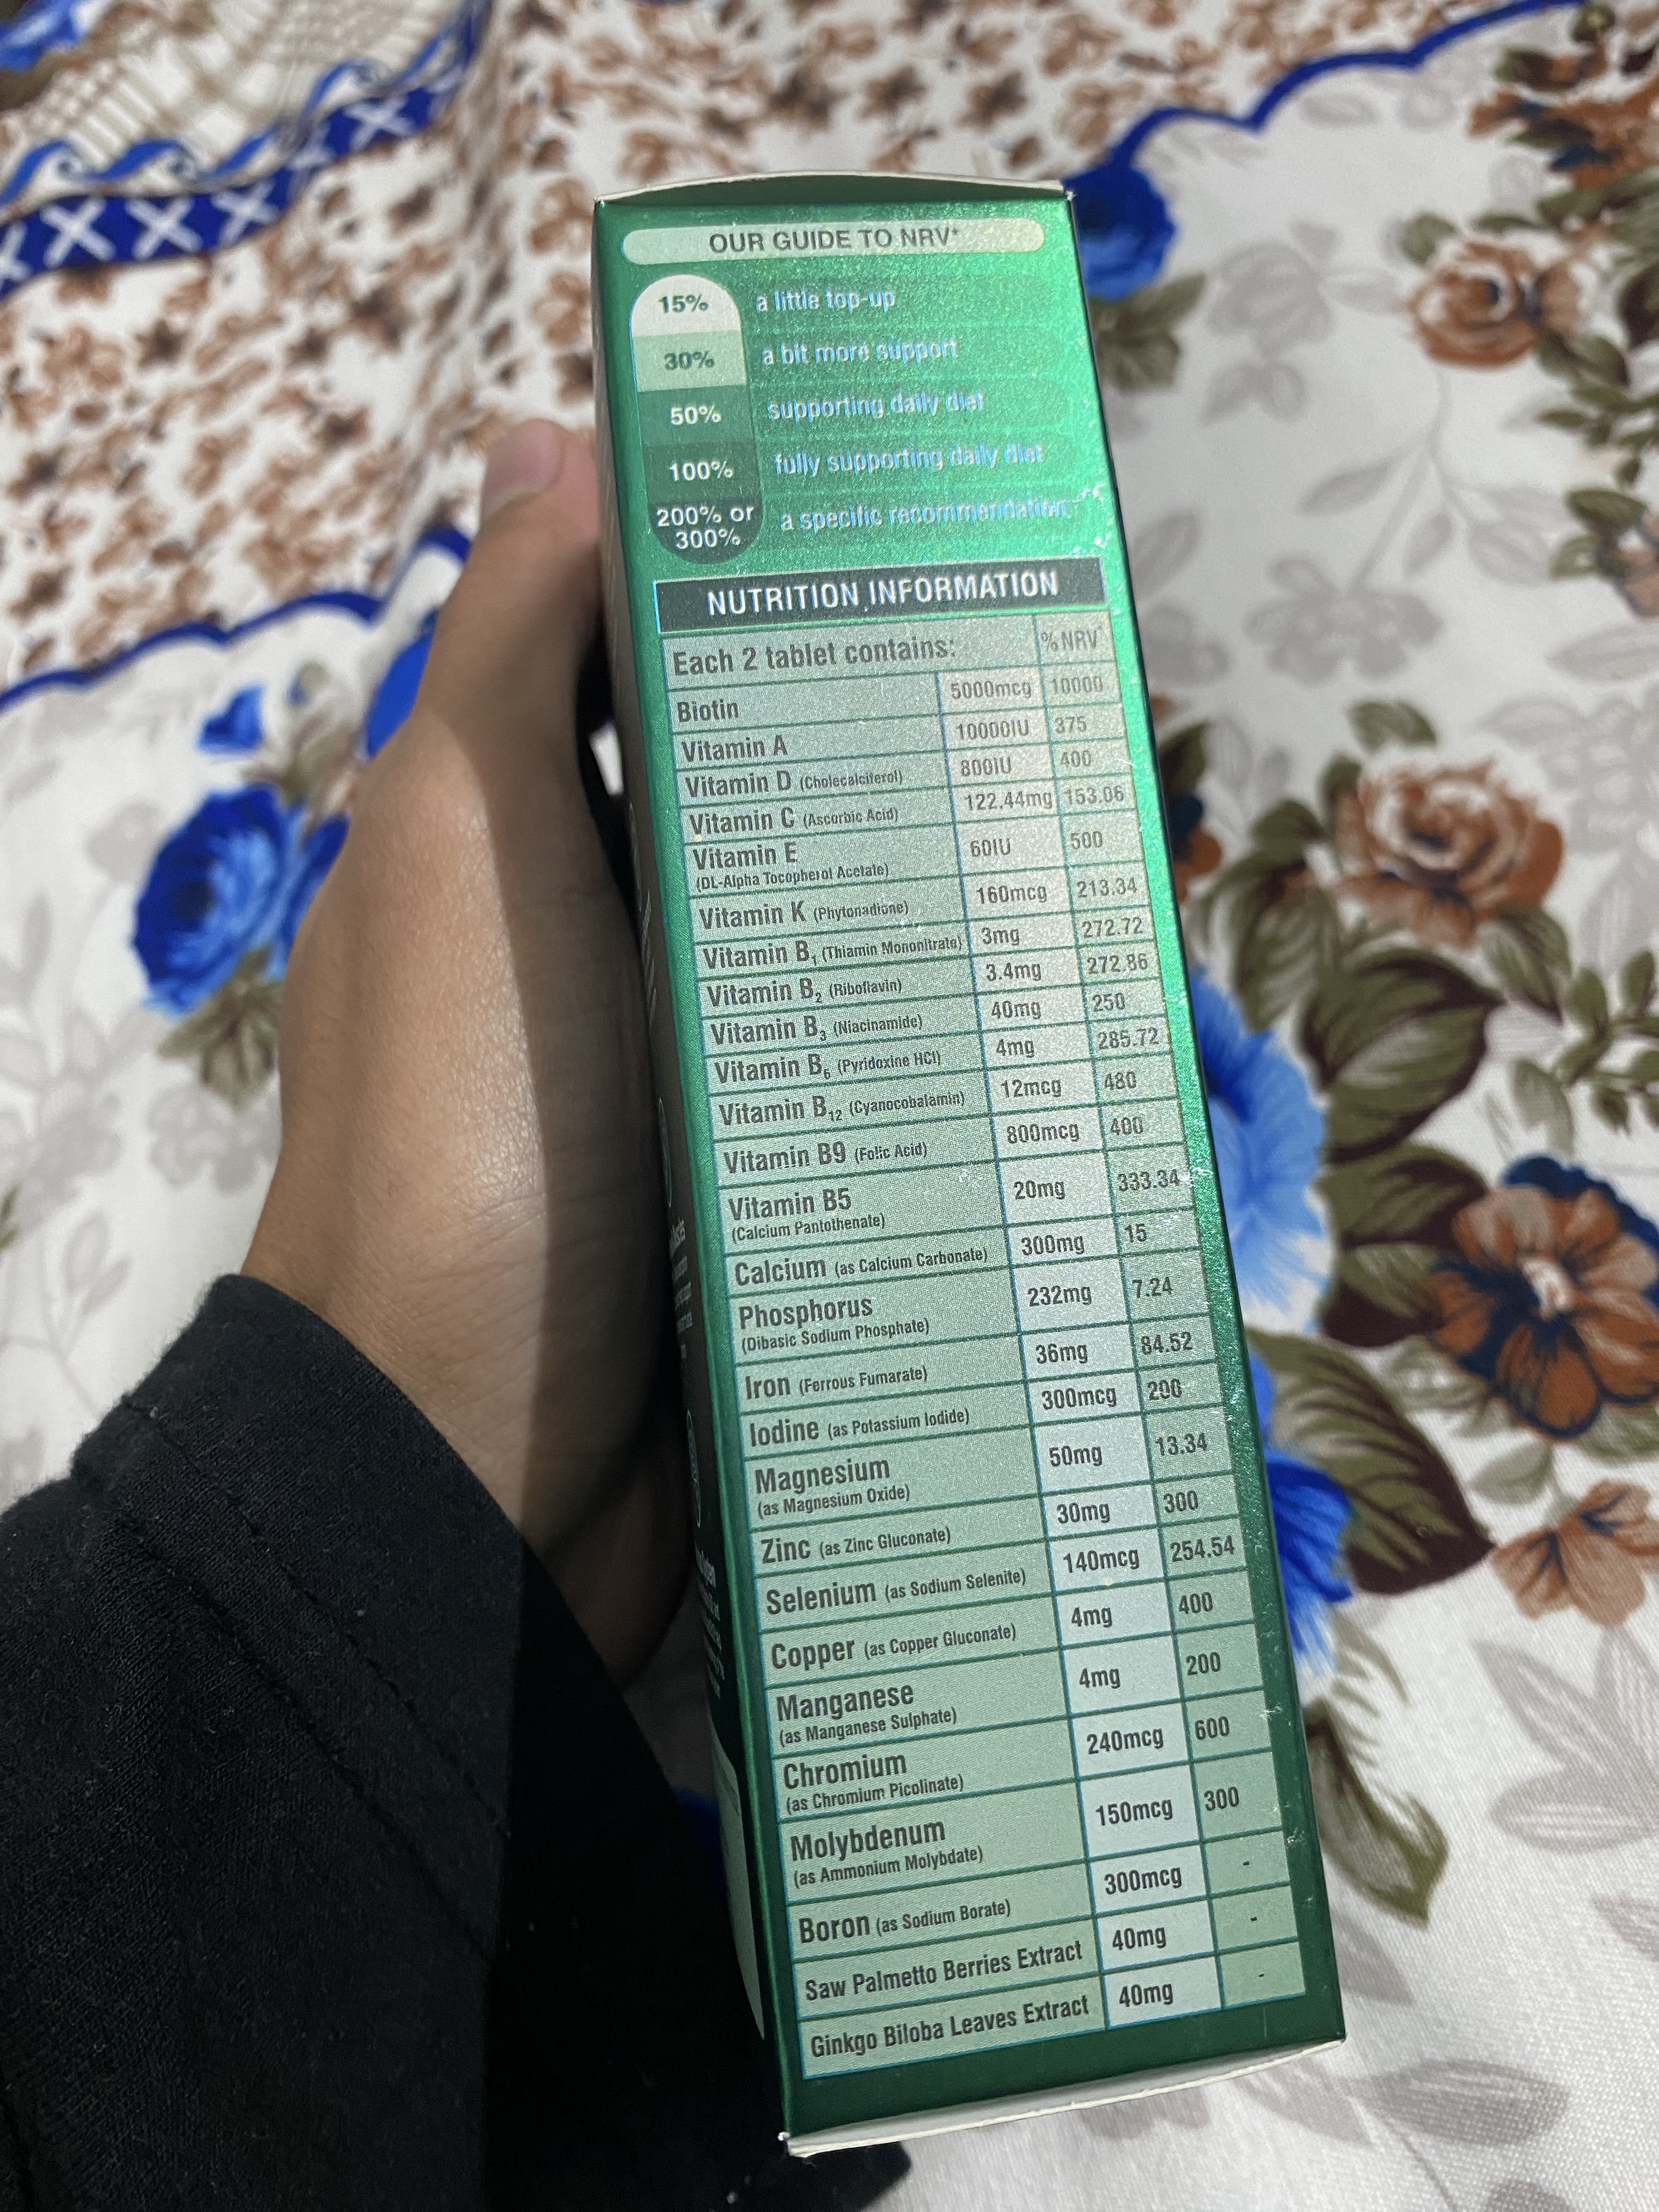table: (647, 554, 1328, 2078)
